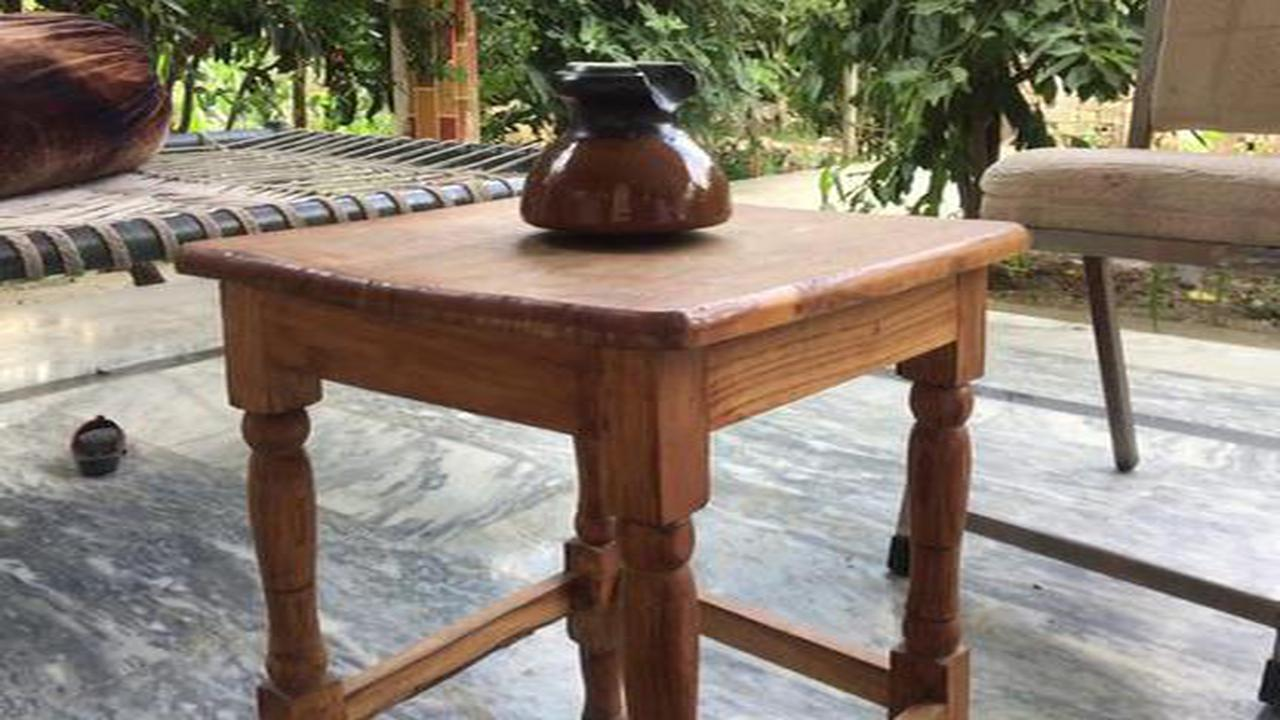insulator_pin: (502, 51, 748, 255)
